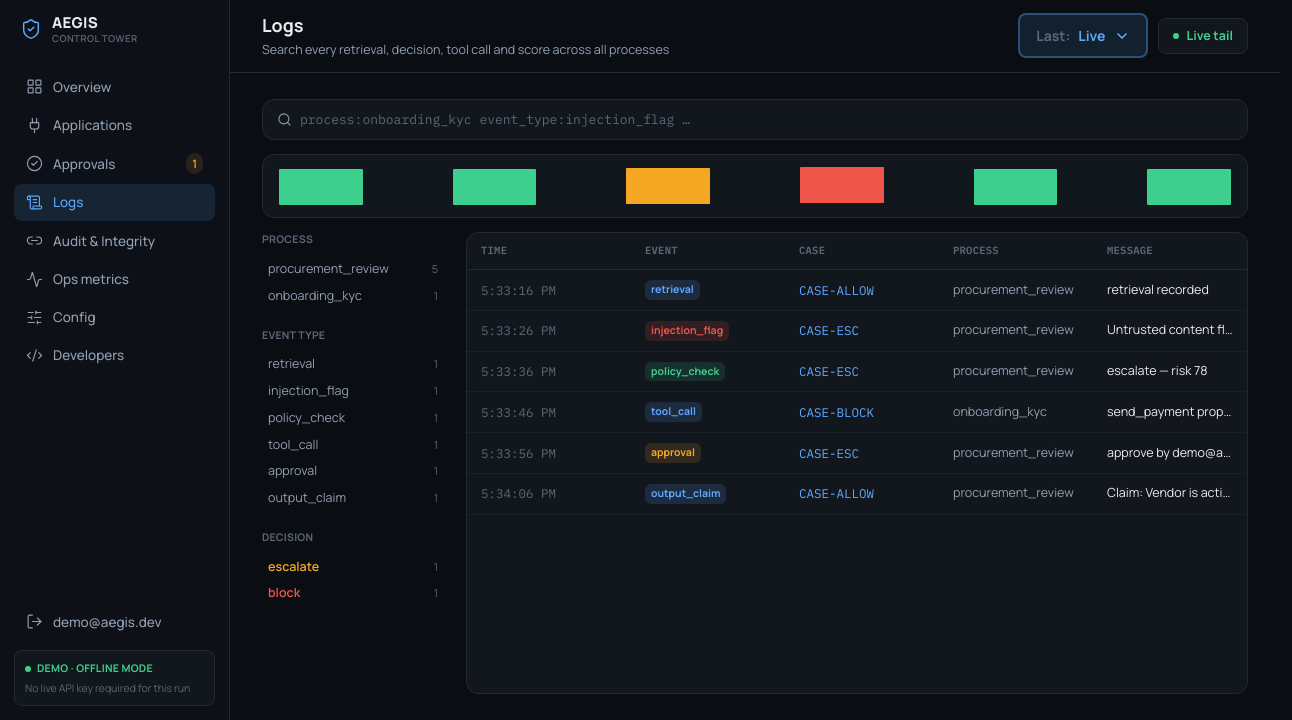
Test case: LogsPage › clicking a single histogram bucket toggles a time-range filter on and off
The image size is (1292, 720).
Expected: the text "injection_flag" below "Event type" is shown, top-left (268, 382), bottom-right (349, 399)
Press the mouse on the element with test id "hist-bar-0": x=321, y=186 top-left (279, 167), bottom-right (363, 205)
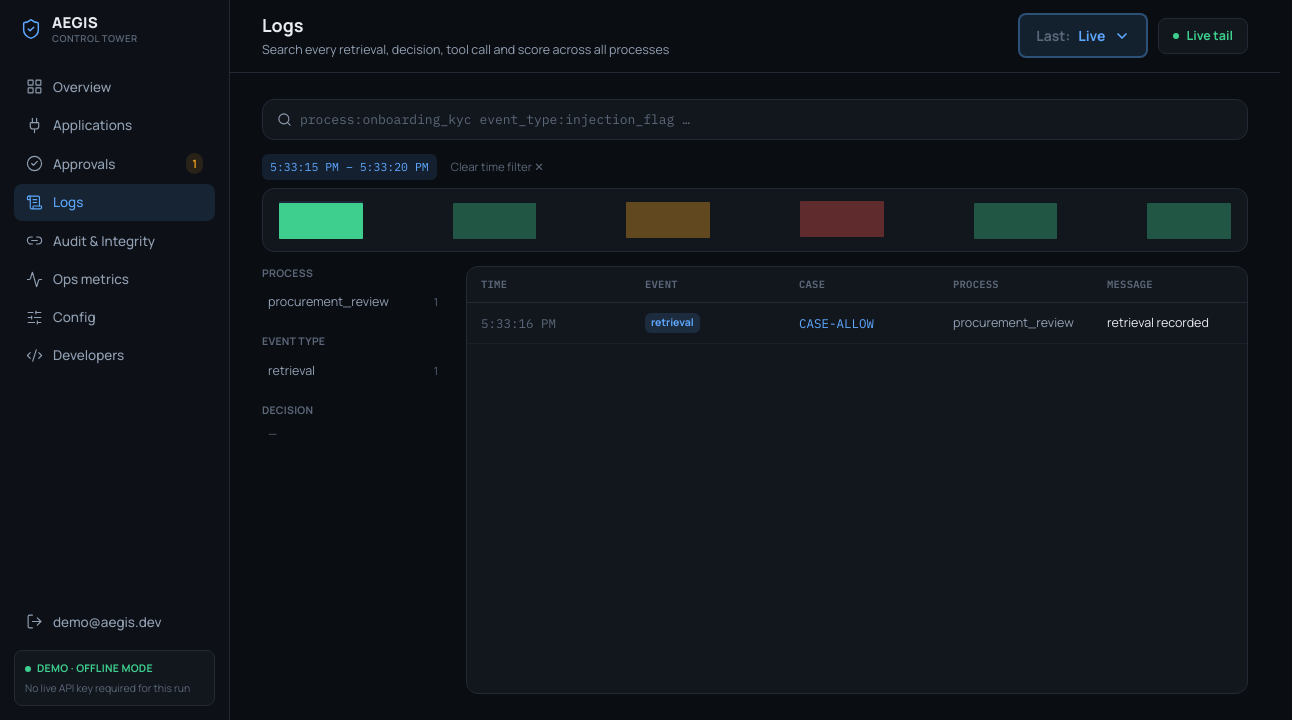
Expected: the element with test id "time-range-chip" is shown, top-left (262, 154), bottom-right (550, 180)
Press the mouse on the element with test id "hist-bar-0": x=321, y=220 top-left (279, 200), bottom-right (363, 238)
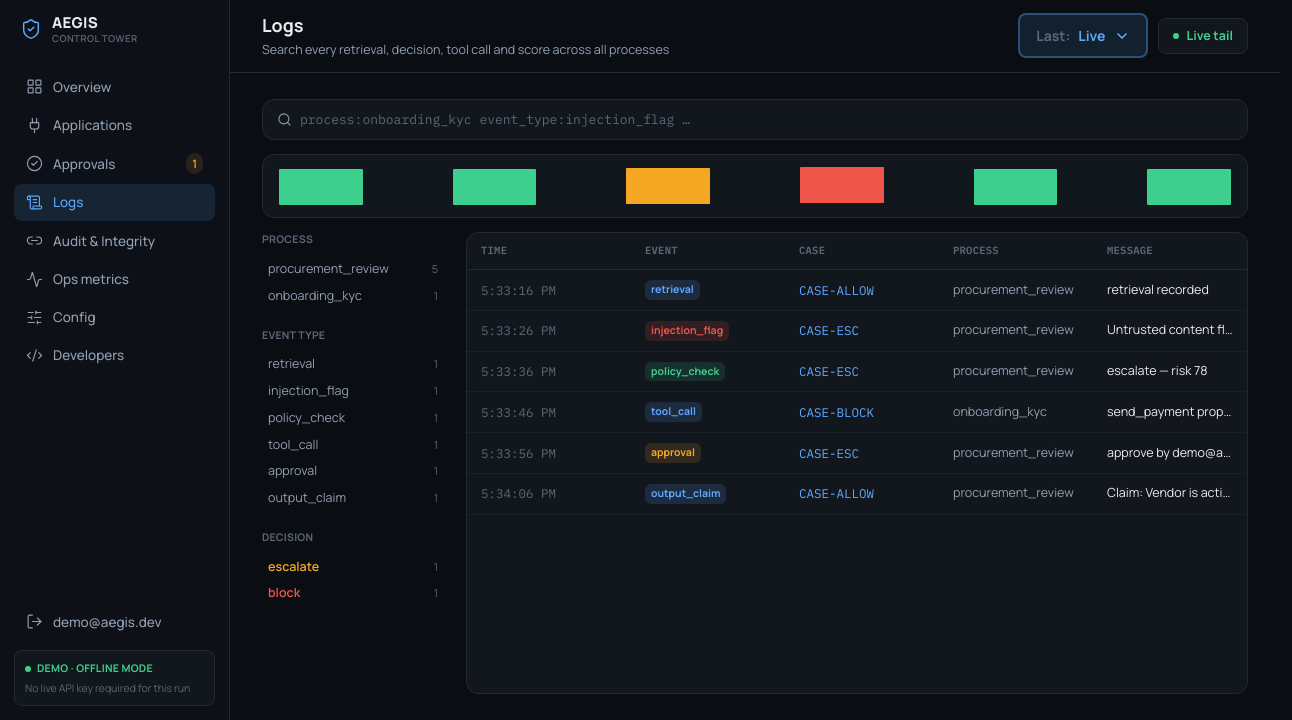
Expected: the element with test id "time-range-chip" is gone
Press the mouse on the element with test id "hist-bar-0": x=321, y=186 top-left (279, 167), bottom-right (363, 205)
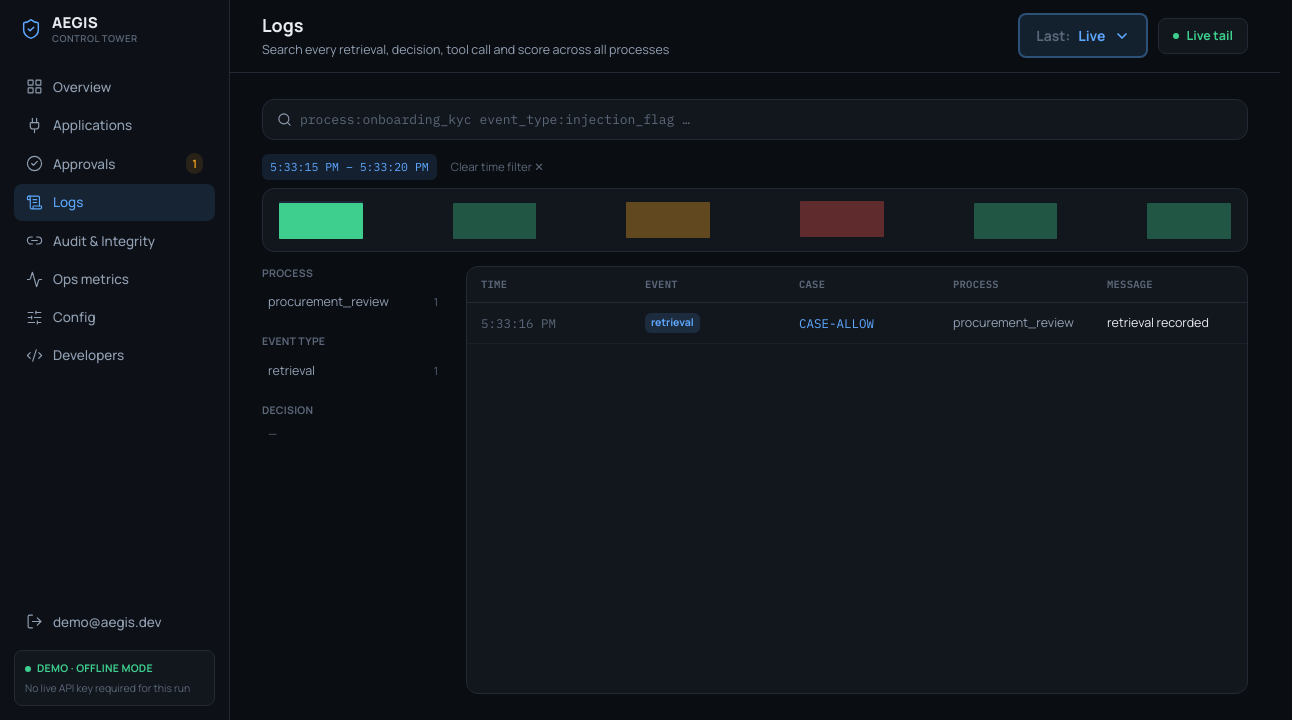
Click the button "Clear time filter ✕": x=497, y=167 top-left (445, 156), bottom-right (550, 178)
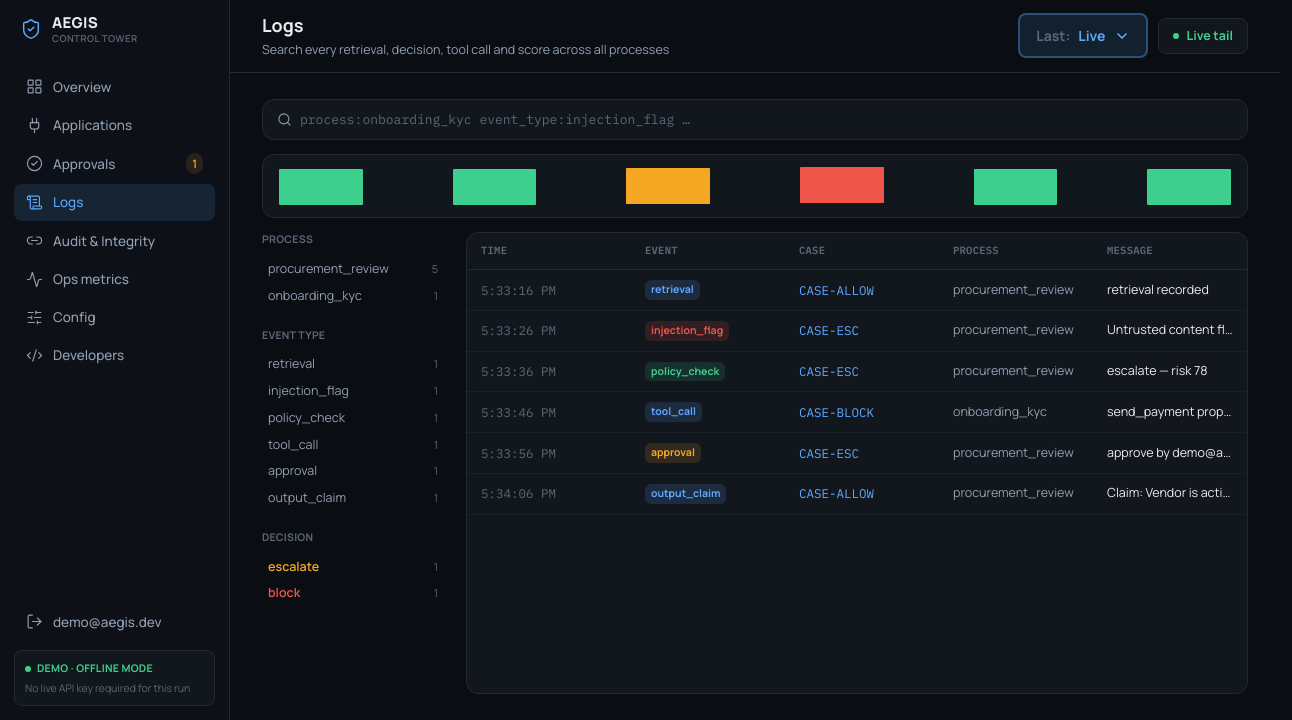
Expected: the element with test id "time-range-chip" is gone
